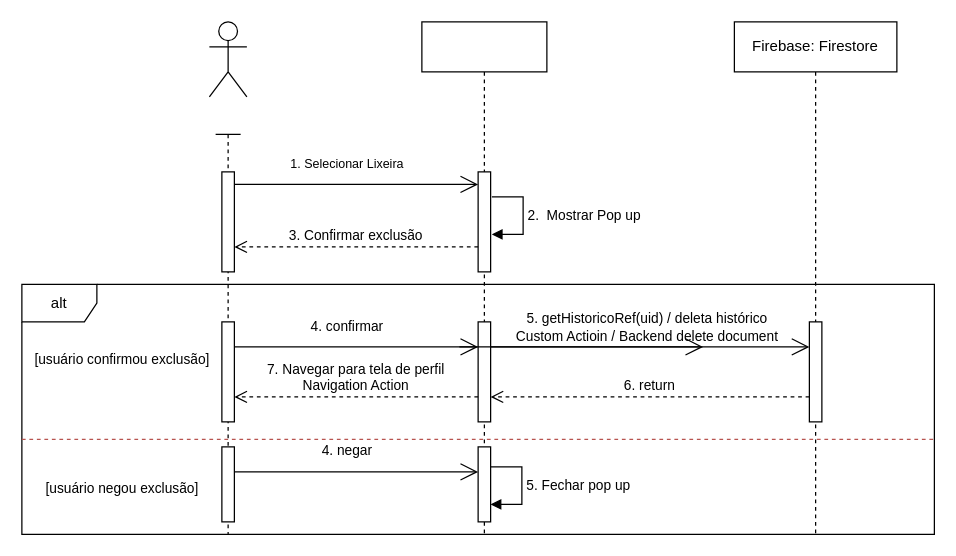
Image size: 956x556. Some labels were removed from this diagram. The centre of each missing label's shape, as x and y in pixels:
Flutterflow: point 484,277
Usuário: point 227,59
